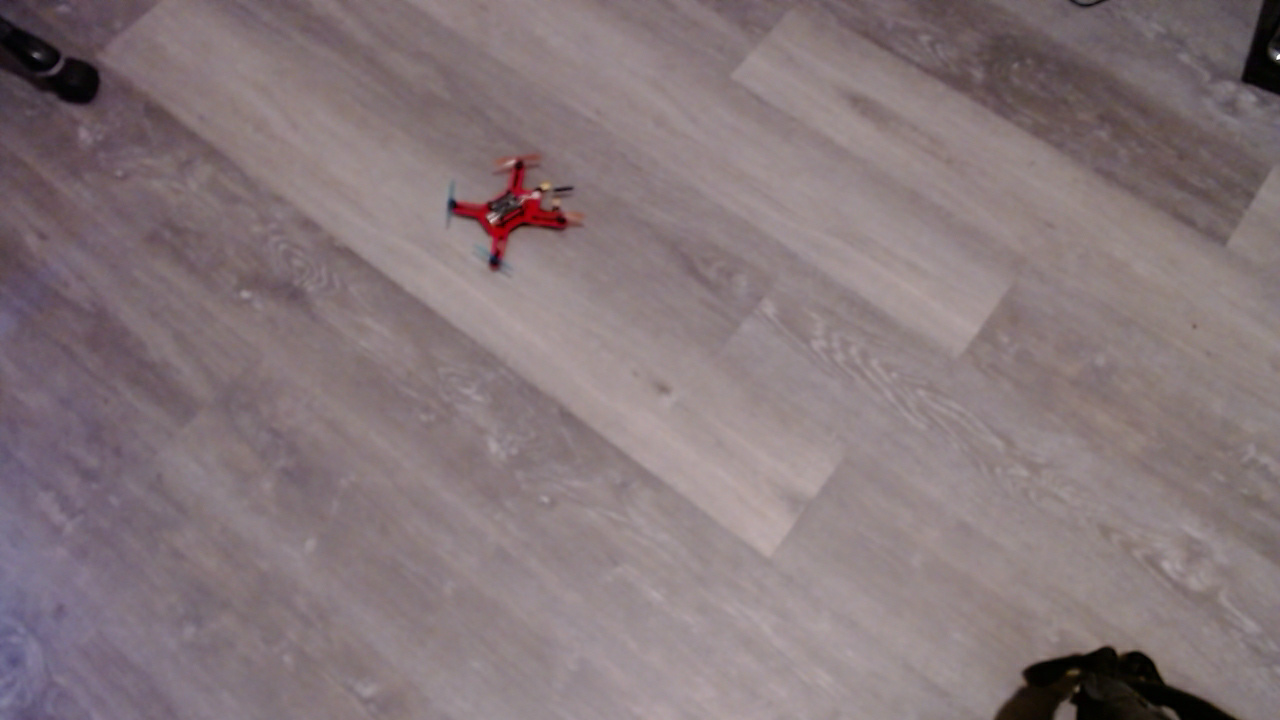crazyflie: (446, 153, 595, 276)
